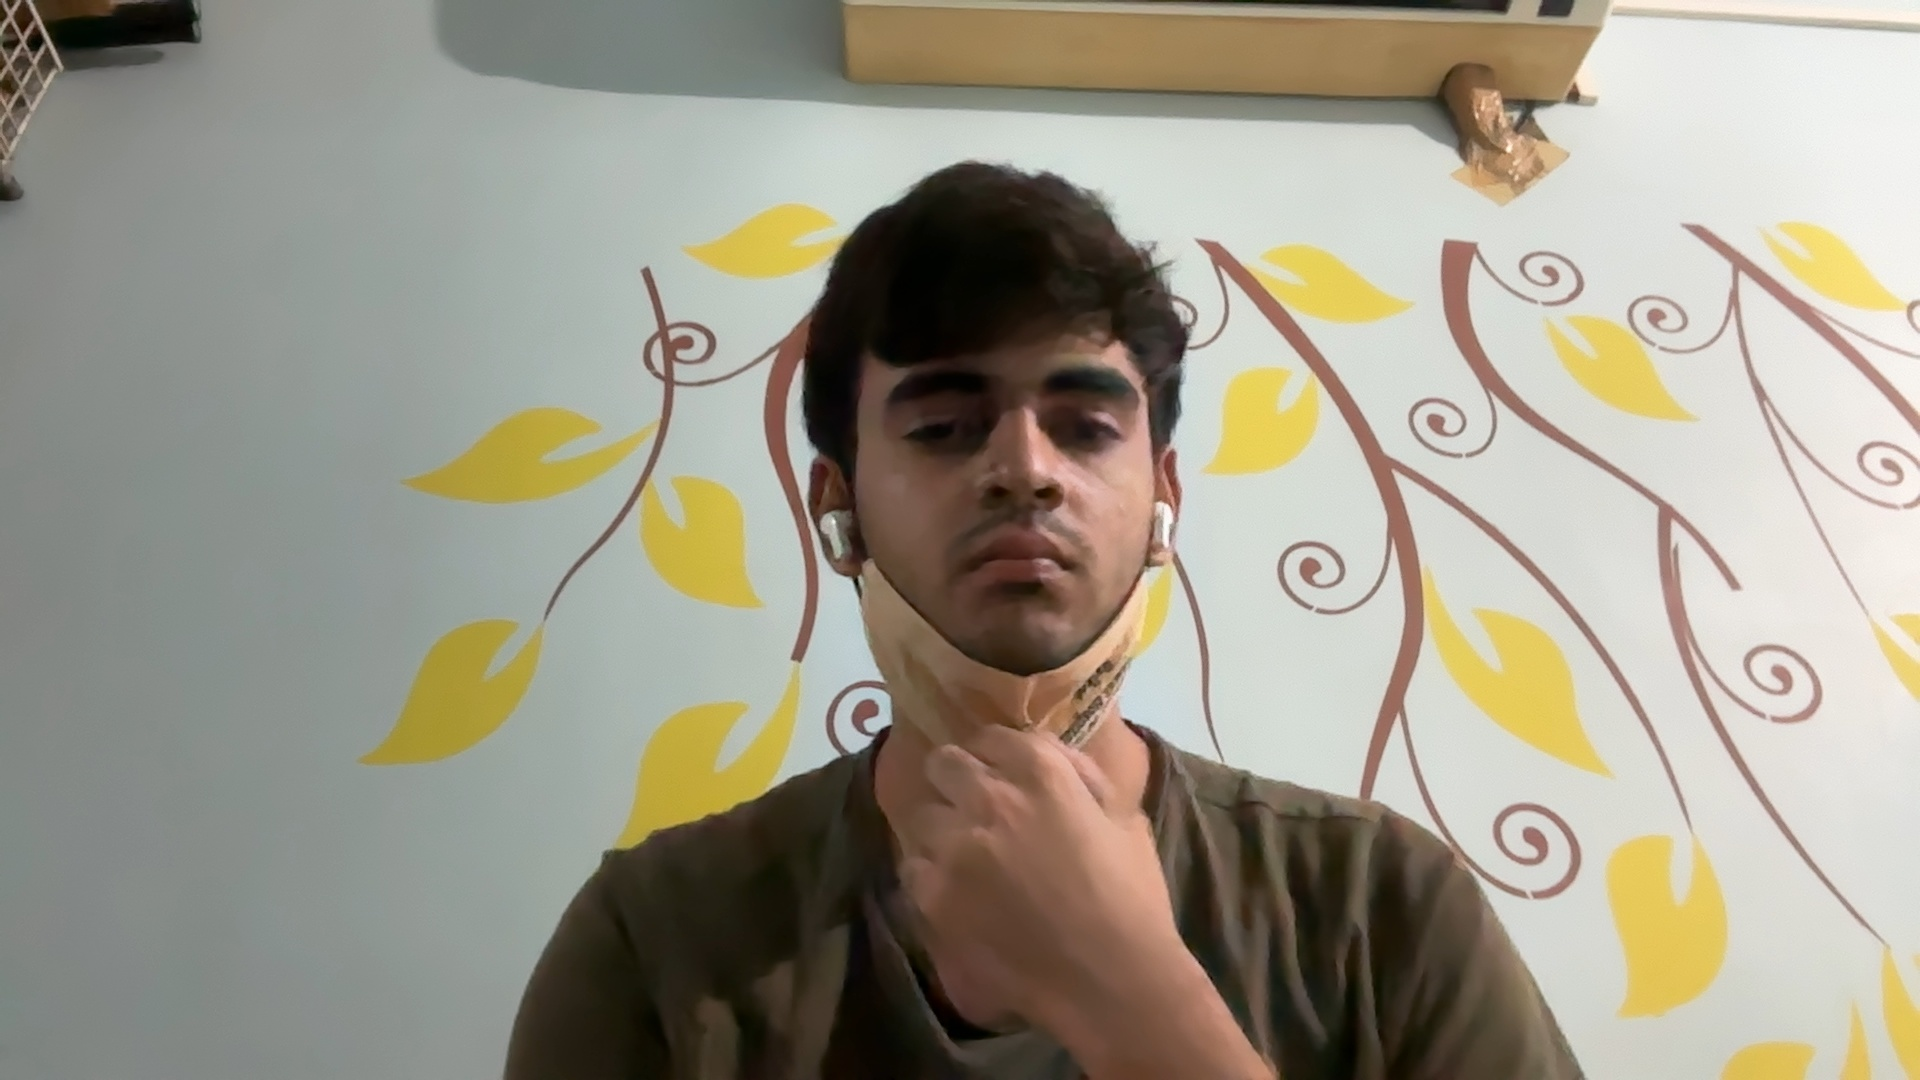No Mask: (857, 470, 1156, 706)
